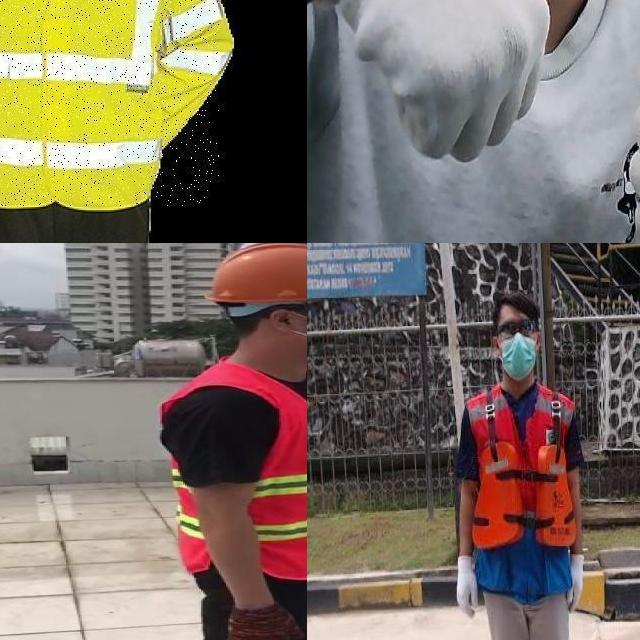GLASS: (493, 317, 537, 339), (275, 303, 307, 323)
GLOVE: (307, 0, 549, 161), (226, 600, 306, 640), (454, 552, 481, 618), (565, 554, 588, 612)
HELMET: (194, 243, 307, 311)
VEST: (0, 0, 219, 207), (170, 368, 307, 576), (464, 383, 575, 597)
